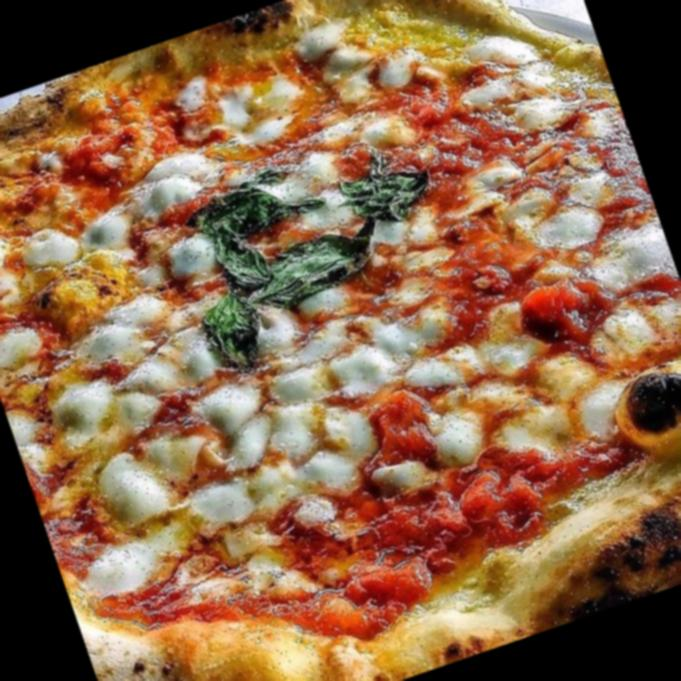Basil: (164, 150, 337, 264), (238, 208, 402, 323), (322, 133, 447, 243), (188, 274, 280, 382), (197, 204, 284, 305)
Pizza: (0, 0, 681, 681)
